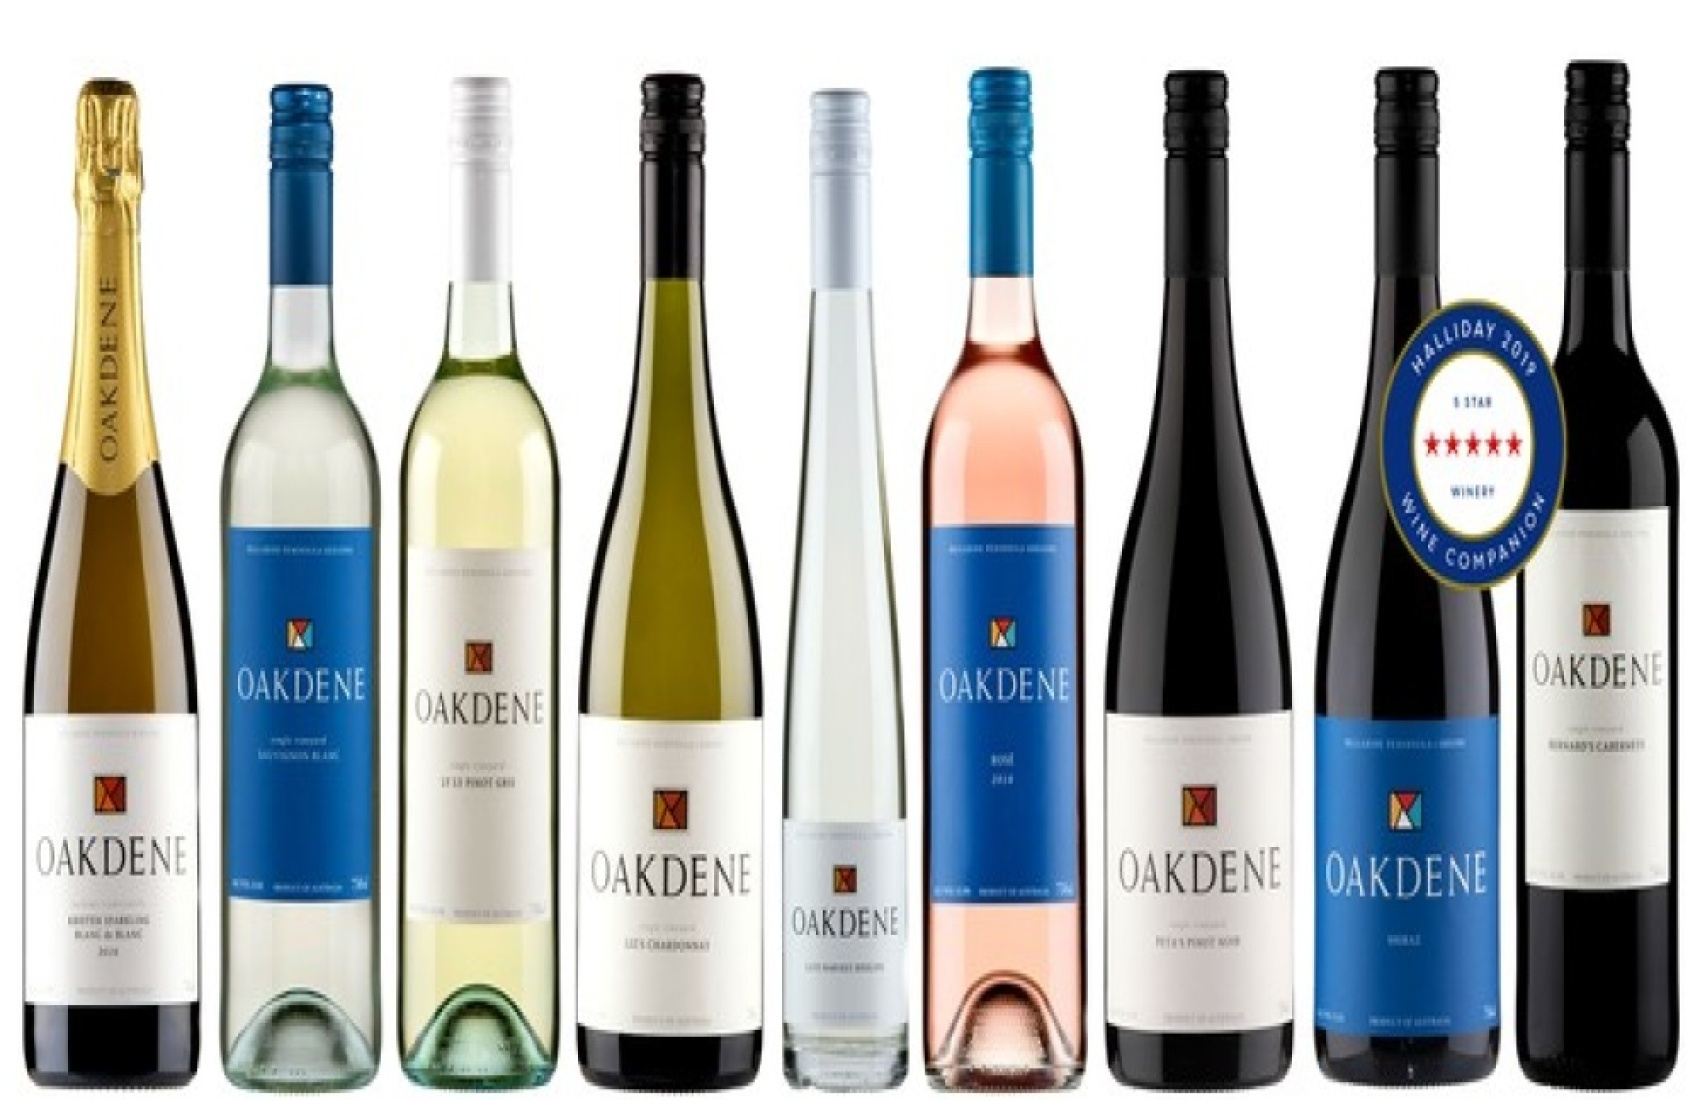wine: (911, 99, 1092, 1099), (14, 78, 195, 1078), (926, 93, 1106, 1093), (581, 83, 761, 1083), (1103, 100, 1282, 1100), (221, 79, 400, 1079), (1322, 85, 1502, 1085), (1509, 84, 1689, 1084), (400, 79, 564, 1076)
